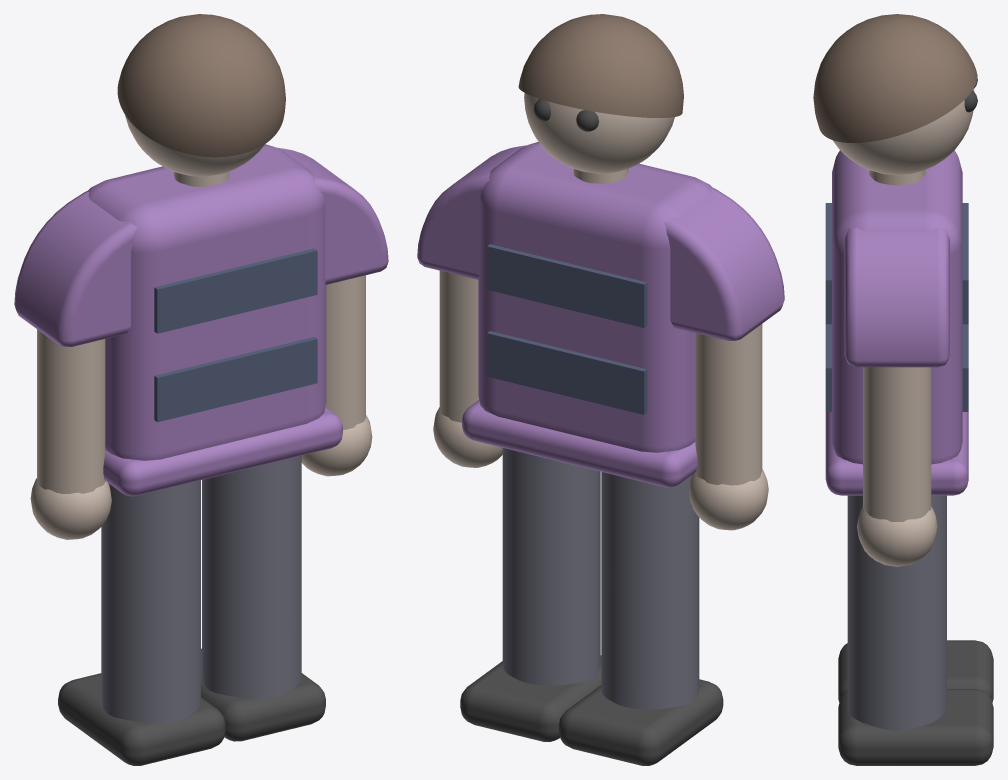
The model's file is family.glb.
3 renders of one model, left to right at view 1: azimuth 30°, elevation 25°; view 2: azimuth 150°, elevation 25°; view 3: azimuth 270°, elevation 25°, orthographic.
Visible parts, largest first — view 1: geometry_0; view 2: geometry_0; view 3: geometry_0.
Part boxes in pixels (x1,y1,x2,y2): geometry_0: (14, 14, 388, 765); geometry_0: (417, 14, 784, 765); geometry_0: (813, 14, 993, 765).
Bounding box in the file's own units: 1.22 × 2.49 × 0.58.
